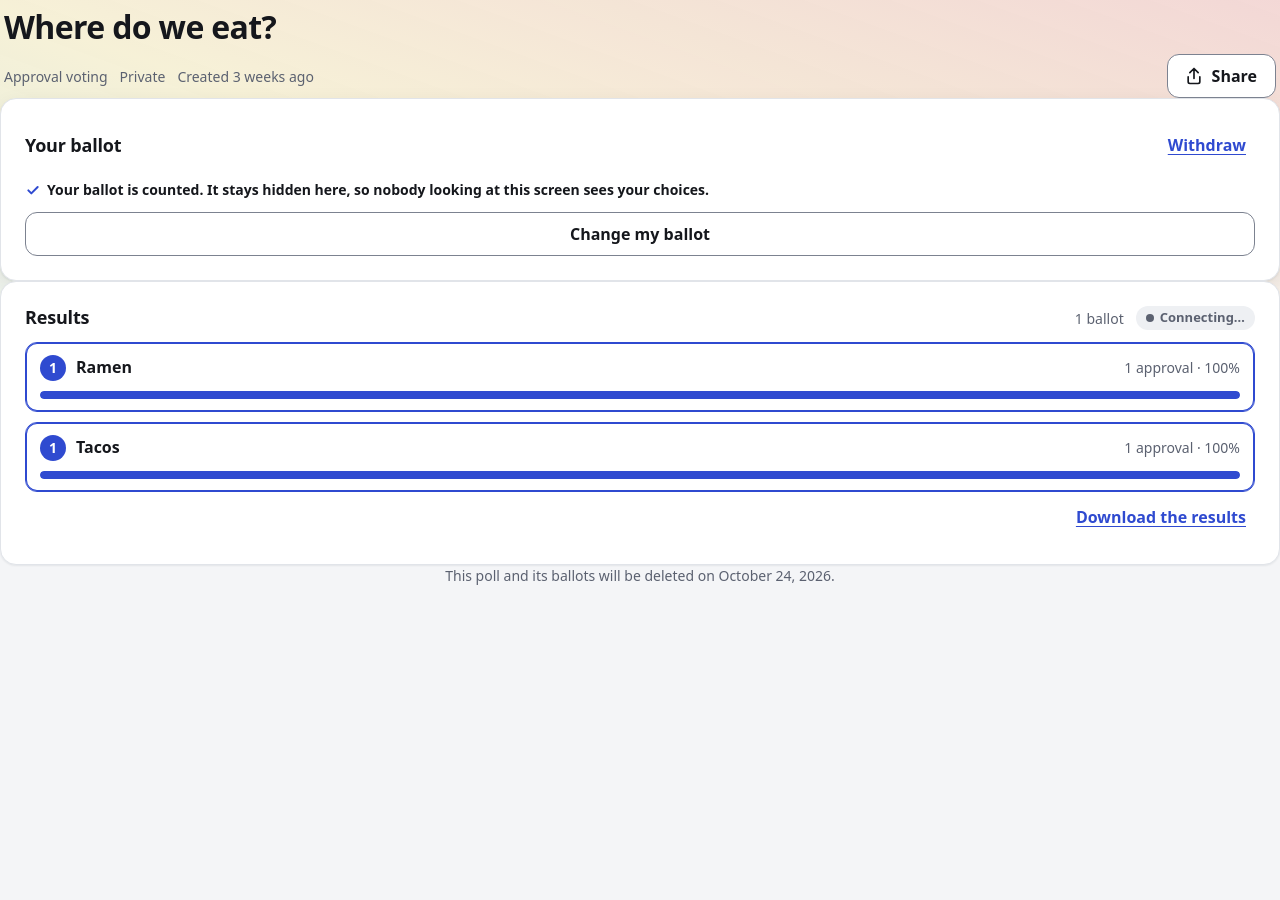
Test: a counted ballot › stays hidden until the voter opens it to change it, and can be hidden again
Expected: the text "It stays hidden here" is shown, [47,180,709,199]
Step 1. Click the button "Change my ballot" → point(640, 234), box [25,212,1255,256]
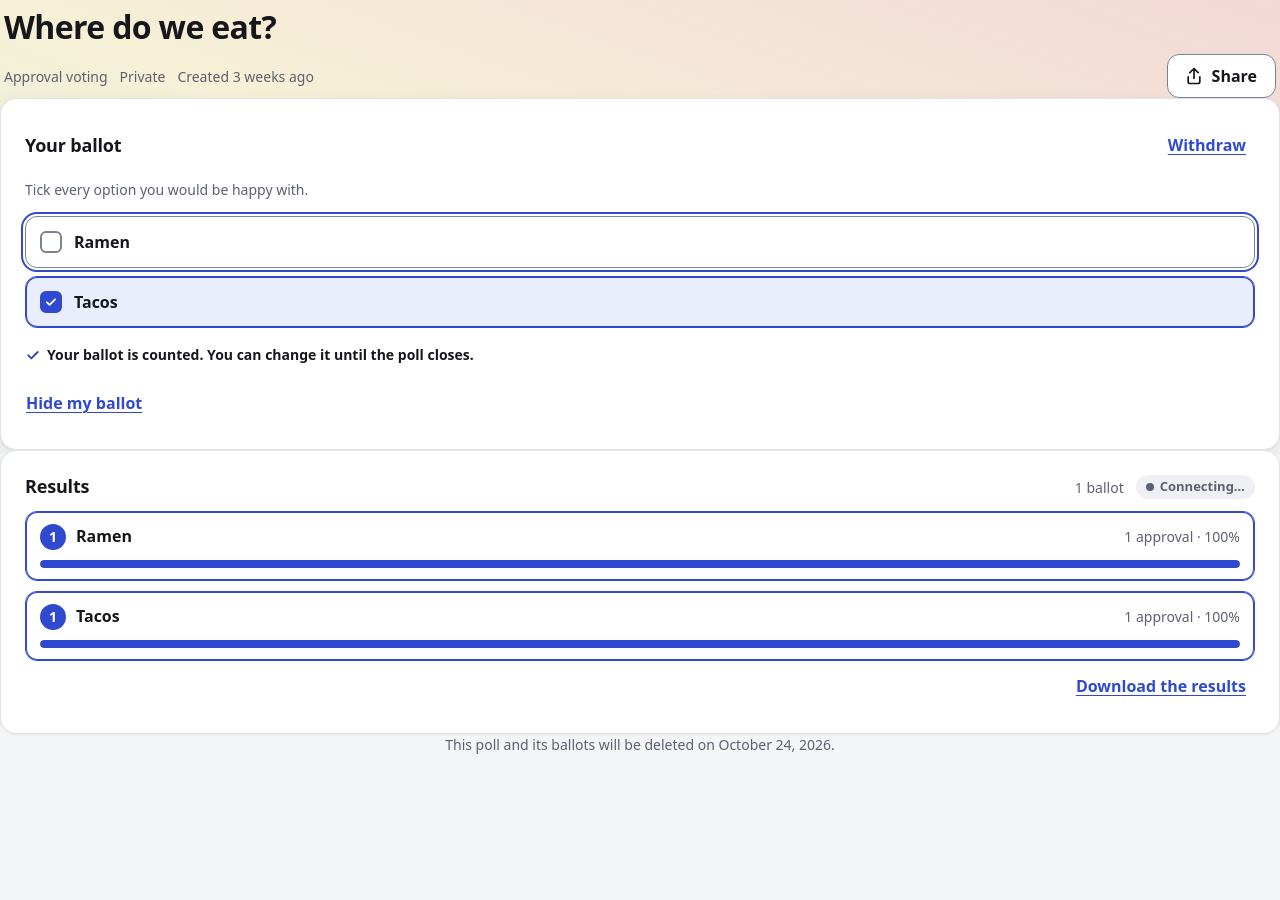
Now the checkbox labelled "Tacos" is checked, box [25,276,1255,328]
Step 2. Click the button "Hide my ballot" → point(84, 403), box [17,381,151,425]
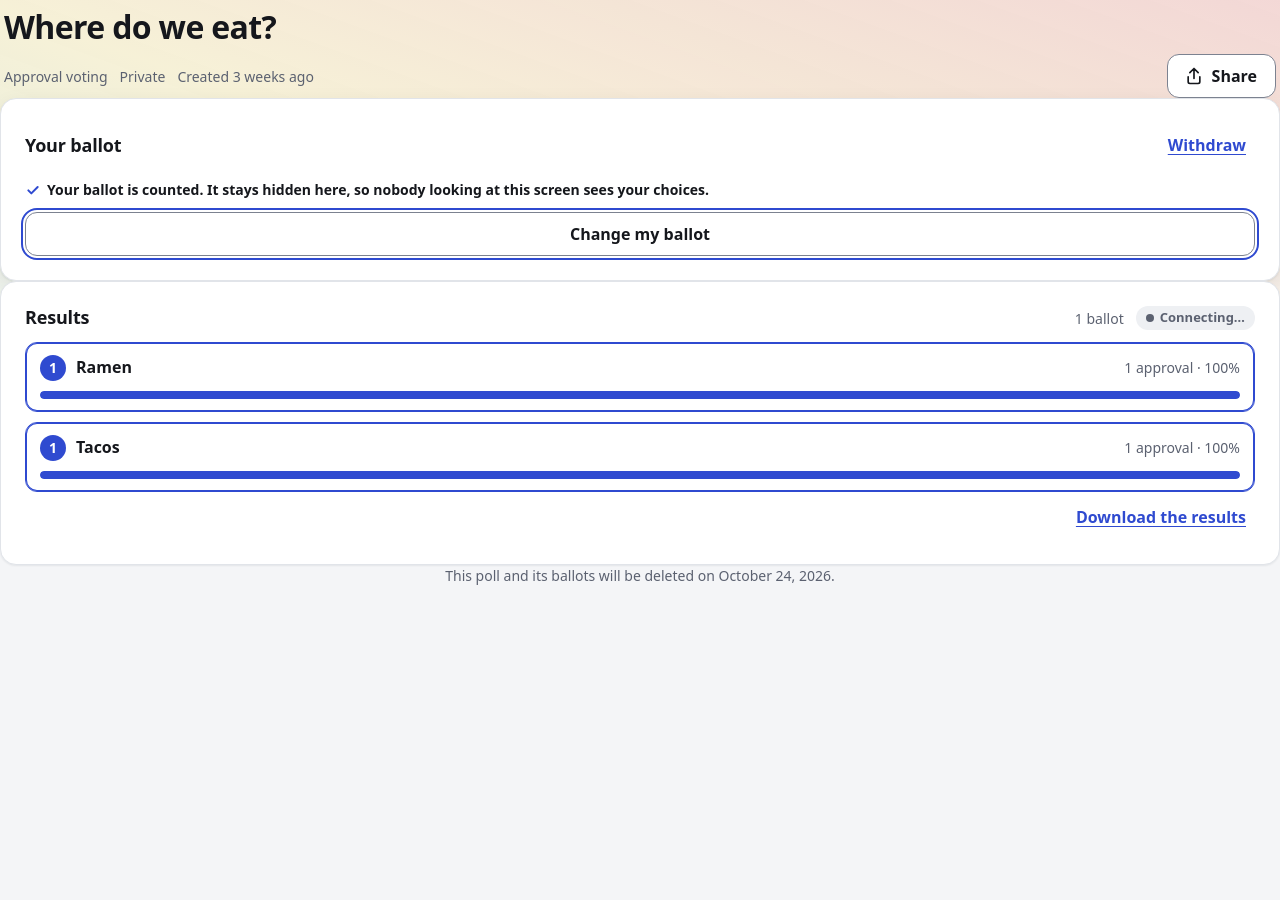
Now the checkbox is gone
